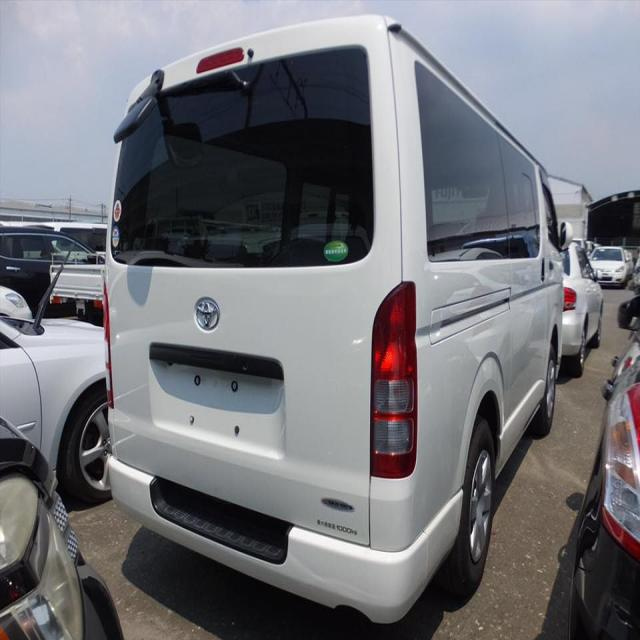car: (0, 280, 106, 501), (557, 237, 607, 368), (592, 241, 636, 292)
microbus: (101, 1, 577, 623)
